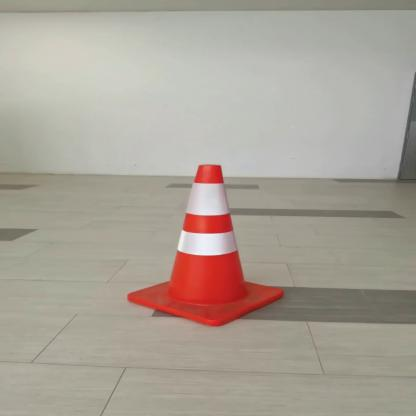cone: (120, 159, 293, 330)
